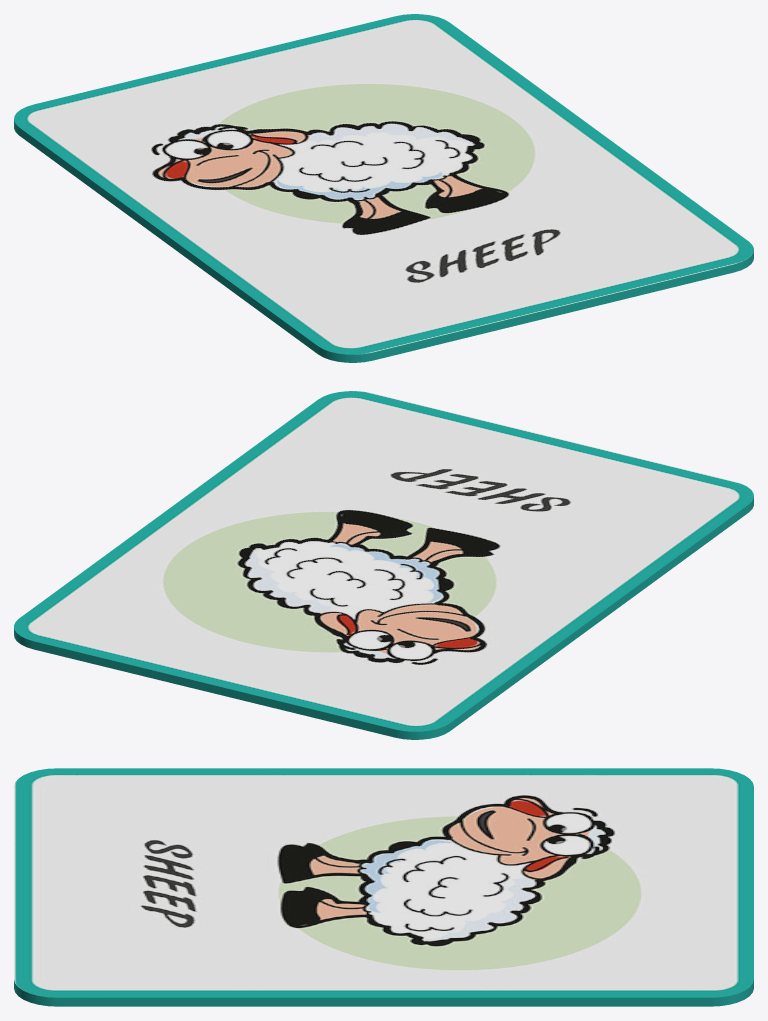
File: carta memory_sheep.fbx
3 views of the same model, one above another, from view 1: azimuth 30°, elevation 25°; view 2: azimuth 150°, elevation 25°; view 3: azimuth 270°, elevation 25° (orthographic). The views are drawn at different scales.
Visible parts, largest first — view 1: pCube1; view 2: pCube1; view 3: pCube1.
Boxes of the visible parts, box(x1,y1,x2,y2) form: pCube1: box(14, 14, 753, 362); pCube1: box(14, 391, 753, 739); pCube1: box(14, 768, 753, 1006).
Size of the model in its own units: 5.5 by 0.1 by 7.5.
Materials: 1 (1 with a texture image).
